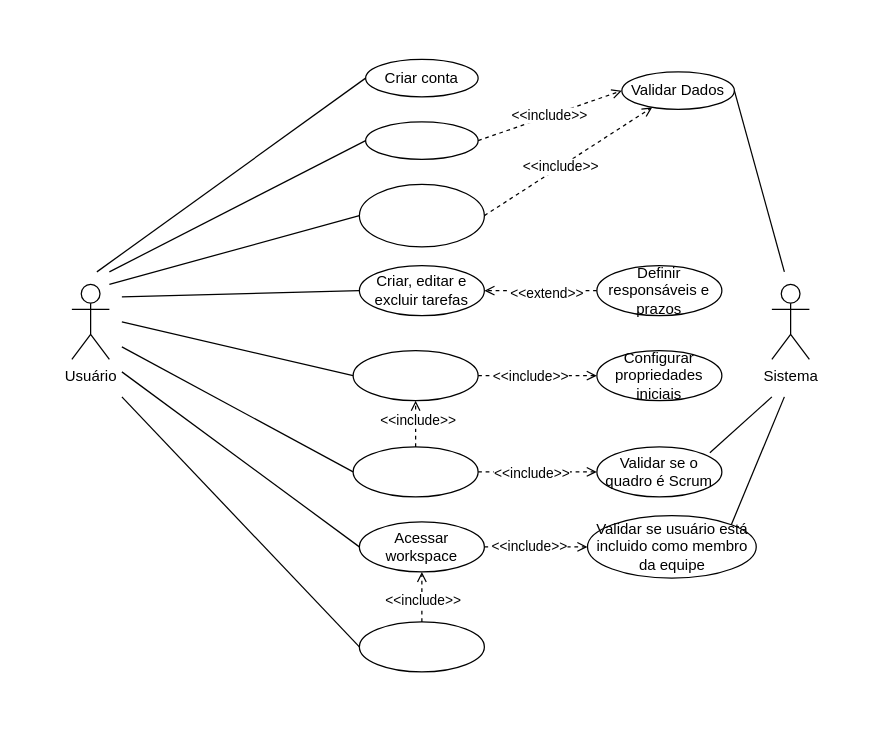
Image size: 880x730. Some labels were removed from this diagram. The box of each missing label's shape, as (x1, y1, x2, y2) in pixels:
Criar quadros de tarefas: (352, 349, 478, 401)
Editar inforamações pessoais: (358, 183, 484, 247)
Gerenciar sprints: (352, 446, 478, 497)
Realizar login: (364, 121, 478, 159)
Visualizar dados da atividade: (358, 621, 484, 672)
